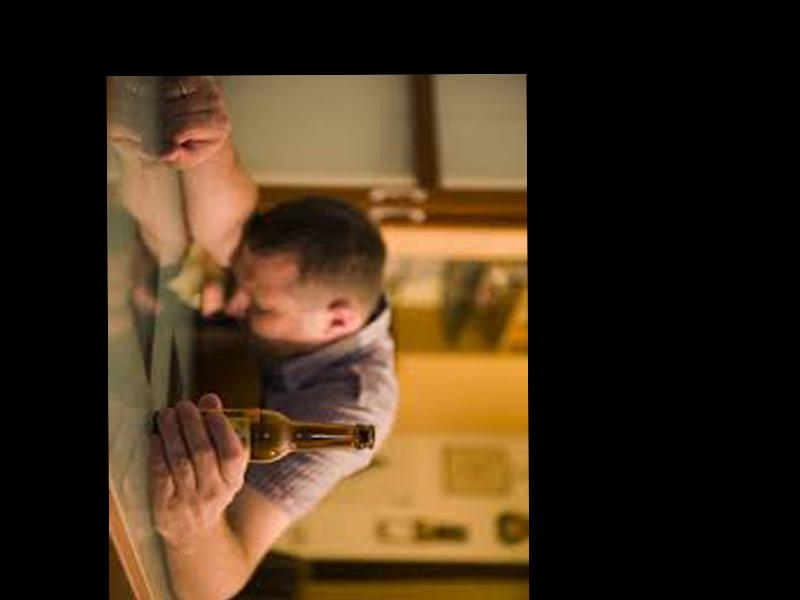Beer: (151, 410, 376, 460)
